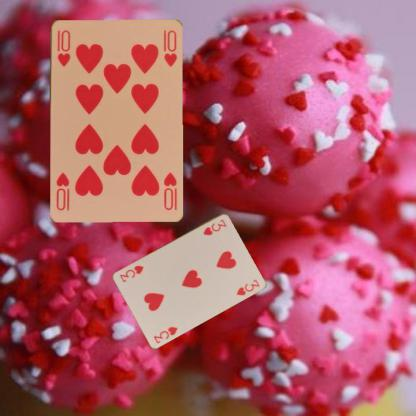10h: (160, 169, 178, 211), (54, 27, 72, 68)
3h: (200, 217, 228, 236), (152, 324, 178, 344)
